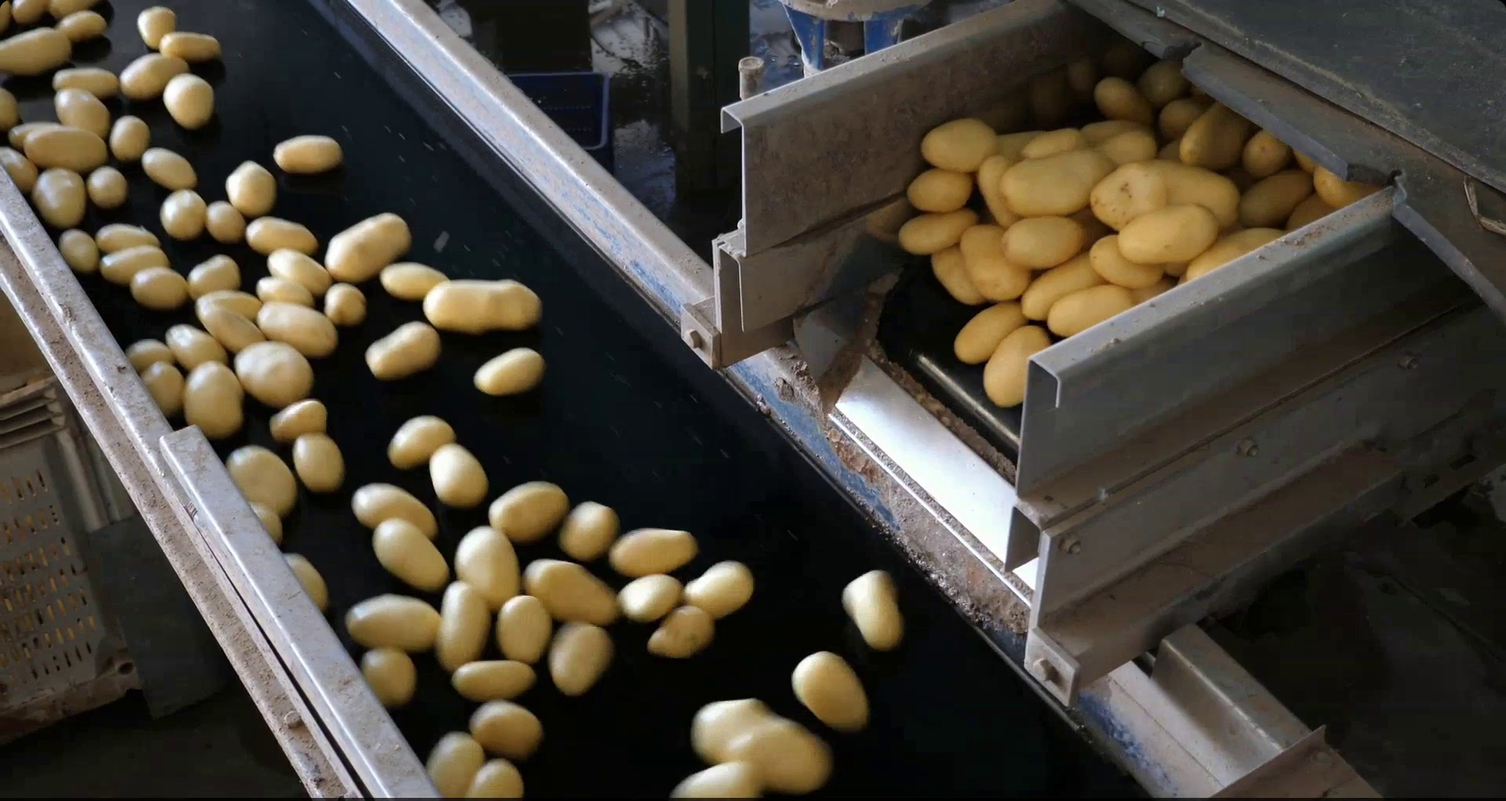potato: (685, 694, 842, 799), (1085, 156, 1246, 230), (994, 141, 1115, 220), (418, 274, 549, 336), (786, 645, 875, 736), (517, 554, 623, 629), (318, 208, 417, 286), (1175, 221, 1290, 288), (1113, 200, 1220, 270), (336, 590, 446, 656), (980, 320, 1058, 411), (449, 521, 524, 611), (1015, 251, 1104, 325), (430, 577, 495, 678), (369, 515, 453, 593), (1174, 94, 1256, 172), (482, 476, 574, 545), (230, 337, 318, 409), (959, 222, 1034, 304), (544, 618, 618, 701), (839, 566, 908, 655), (948, 295, 1031, 366), (346, 480, 443, 540), (178, 357, 248, 440), (222, 442, 301, 515), (359, 317, 446, 383), (1044, 281, 1142, 339), (252, 297, 342, 359), (677, 555, 759, 622), (999, 212, 1089, 272), (915, 114, 1002, 176), (464, 696, 547, 760), (605, 524, 700, 578), (491, 589, 556, 666), (16, 121, 111, 173), (383, 410, 461, 473), (421, 726, 487, 800), (188, 299, 272, 357), (1237, 165, 1314, 227), (895, 205, 985, 258), (426, 439, 492, 511), (259, 242, 345, 296), (642, 600, 718, 661), (468, 344, 551, 399), (666, 757, 769, 801), (447, 655, 539, 704), (557, 498, 624, 565), (356, 642, 421, 711), (114, 47, 192, 102), (614, 571, 688, 625), (29, 165, 89, 230), (1, 25, 75, 77), (289, 429, 347, 495), (1085, 118, 1162, 167), (929, 241, 986, 306), (902, 165, 976, 215), (268, 131, 348, 177), (280, 547, 333, 616), (162, 321, 231, 374), (243, 212, 322, 257), (95, 242, 172, 288), (376, 257, 453, 303), (223, 157, 281, 218), (51, 84, 113, 140), (162, 70, 218, 131), (5, 118, 92, 157), (127, 264, 195, 313), (265, 396, 332, 445), (1091, 72, 1155, 123), (460, 753, 529, 800), (974, 152, 1020, 222), (155, 187, 211, 242), (139, 143, 202, 191), (184, 252, 243, 303), (1239, 125, 1294, 179), (138, 359, 187, 419), (187, 286, 268, 321), (50, 62, 123, 100), (1135, 55, 1190, 105), (1012, 126, 1086, 163), (93, 220, 166, 256), (320, 278, 370, 328), (83, 161, 132, 211), (106, 112, 155, 162), (158, 27, 226, 63), (201, 195, 249, 245), (1310, 163, 1361, 210), (56, 226, 103, 276), (135, 3, 181, 54), (252, 273, 319, 308), (1155, 95, 1209, 138), (51, 6, 112, 44), (1282, 191, 1333, 233), (246, 497, 287, 548), (1, 142, 41, 194), (122, 335, 175, 374), (38, 1, 104, 26), (1, 82, 20, 139), (10, 1, 51, 27), (1, 1, 17, 34)
